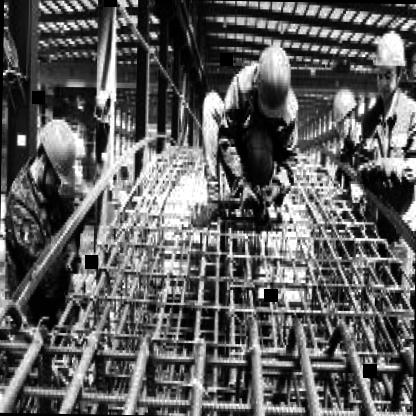helmet: (31, 113, 80, 198), (250, 38, 296, 126), (372, 24, 406, 100), (329, 80, 360, 146)
